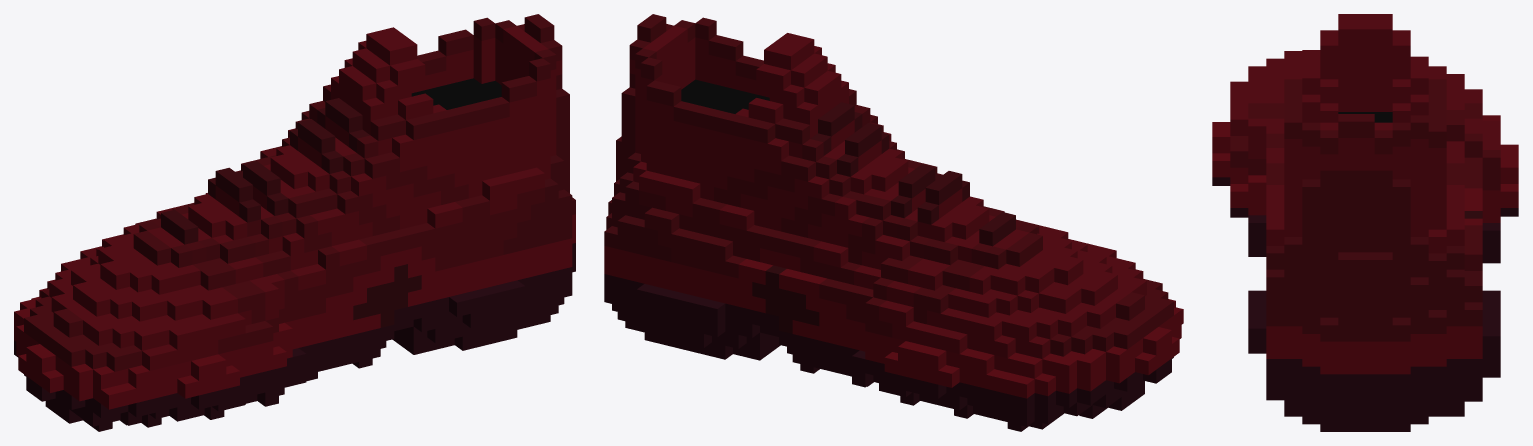
File: Blessed Burgundy.fbx
3 views of the same model, side by side, from view 1: azimuth 30°, elevation 25°; view 2: azimuth 150°, elevation 25°; view 3: azimuth 270°, elevation 25° (orthographic). The views are drawn at different scales.
Parts seen in each view (by area): view 1: Untitled; view 2: Untitled; view 3: Untitled.
Part boxes in pixels (x1,y1,x2,y2): Untitled: (14,14,575,431); Untitled: (604,14,1183,431); Untitled: (1212,14,1518,431).
Bounding box in the file's own units: 390 × 200 × 170.
